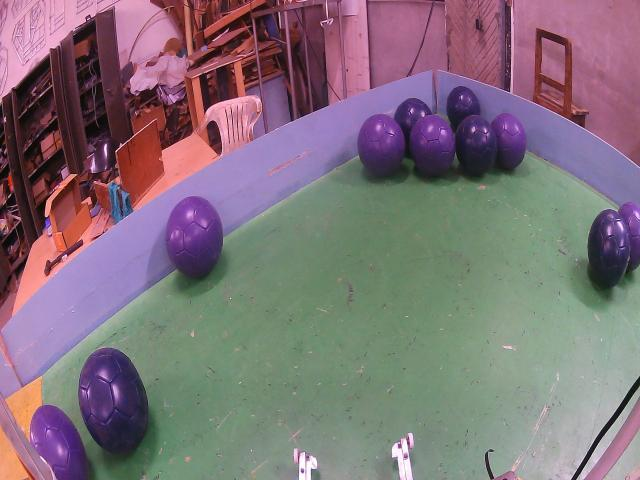jambhalya: (166, 197, 222, 278), (30, 405, 89, 480), (358, 113, 405, 177), (410, 115, 455, 176), (491, 113, 526, 170), (619, 202, 640, 271)
kaalyya: (78, 348, 149, 453), (588, 208, 631, 288), (455, 115, 498, 175), (394, 98, 431, 157), (446, 87, 480, 130)
